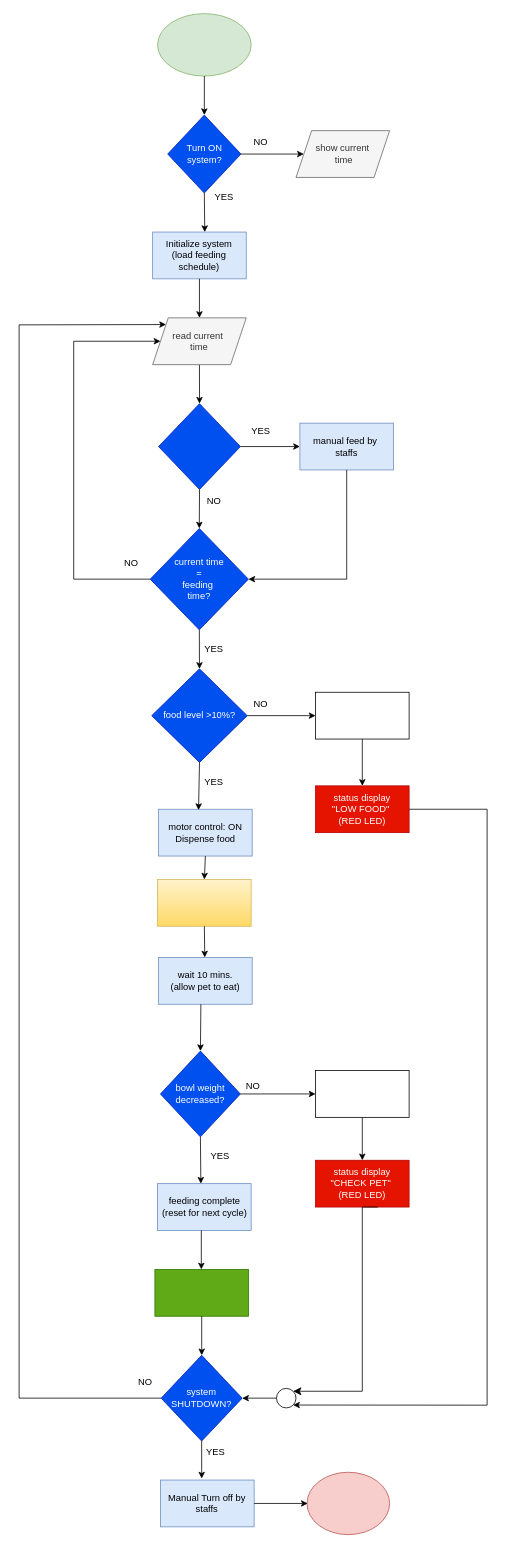
Image size: 507x1548. Some labels were removed from this diagram. Each missing label, with the centre of its shape:
ALERT notification "Food Container Empty": point (362, 715)
ALERT notification "Pet hasn't eaten": point (362, 1093)
END: point (348, 1503)
Manual feed triggered?: point (199, 446)
START: point (204, 44)
status display "FEEDING" (YELLOW LED): point (204, 902)
status display "NORMAL" (GREEN LED): point (201, 1292)
